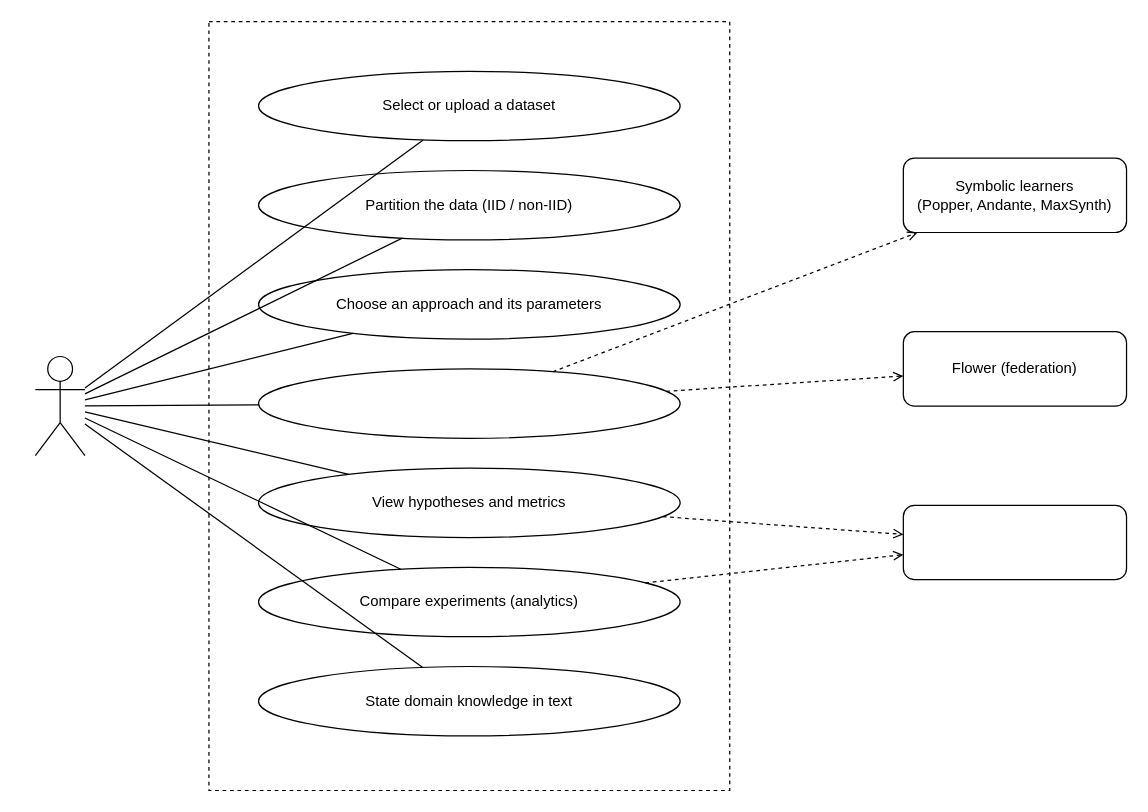
Image size: 1148x812. Some labels were removed from this diagram. The shapes that lost their labels are listed below. From the top down, each one's box as (x1, y1, x2, y2) in pixels, then its label:
(34, 355, 85, 456): Researcher
(257, 368, 680, 438): Run an experiment
(208, 20, 730, 790): FILP platform
(902, 504, 1127, 580): SQLite database and JSON files
